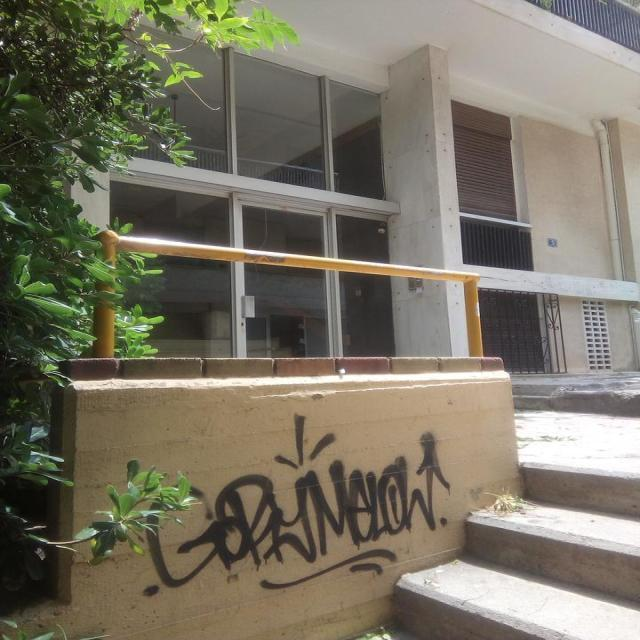nonspitting: (140, 412, 456, 600)
